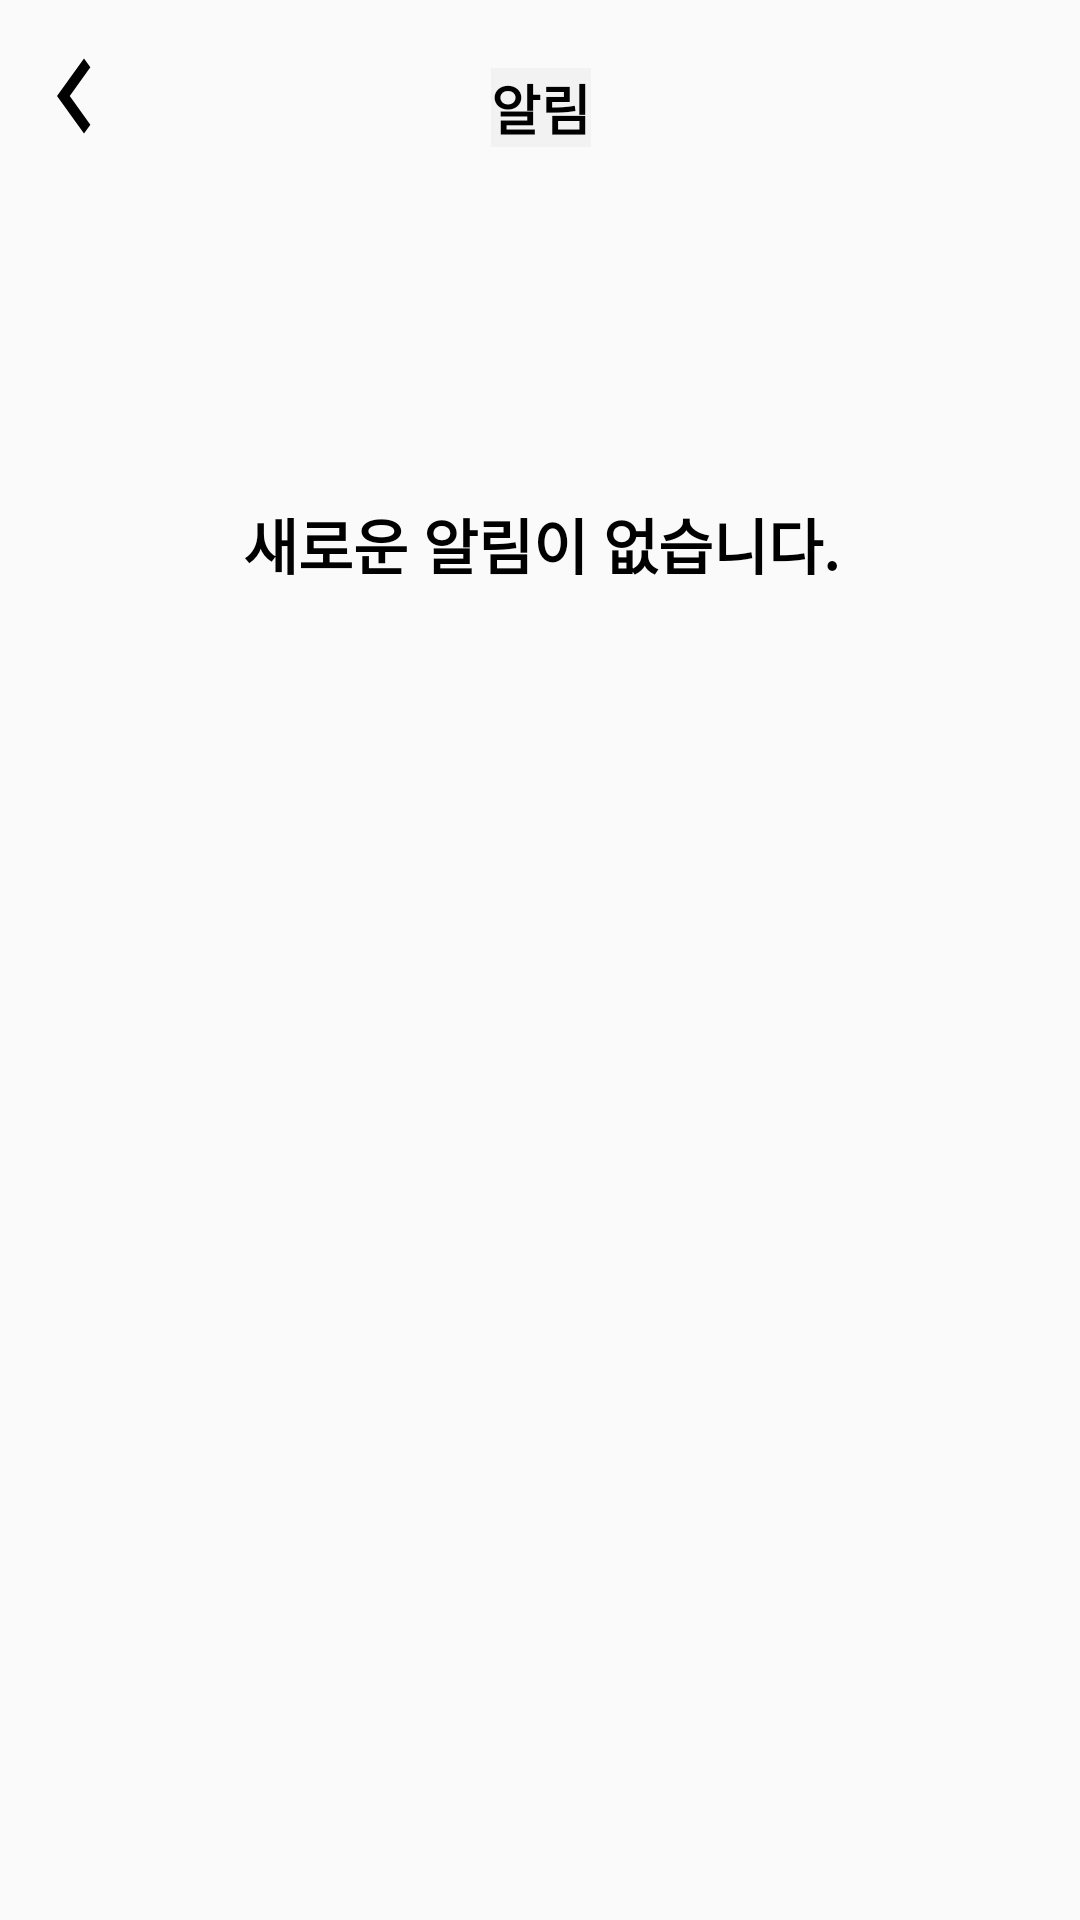

Icons on this 1080 × 1920 Android screen, each with the point to tap as point (x, y):
뒤로가기: point (74, 96)
